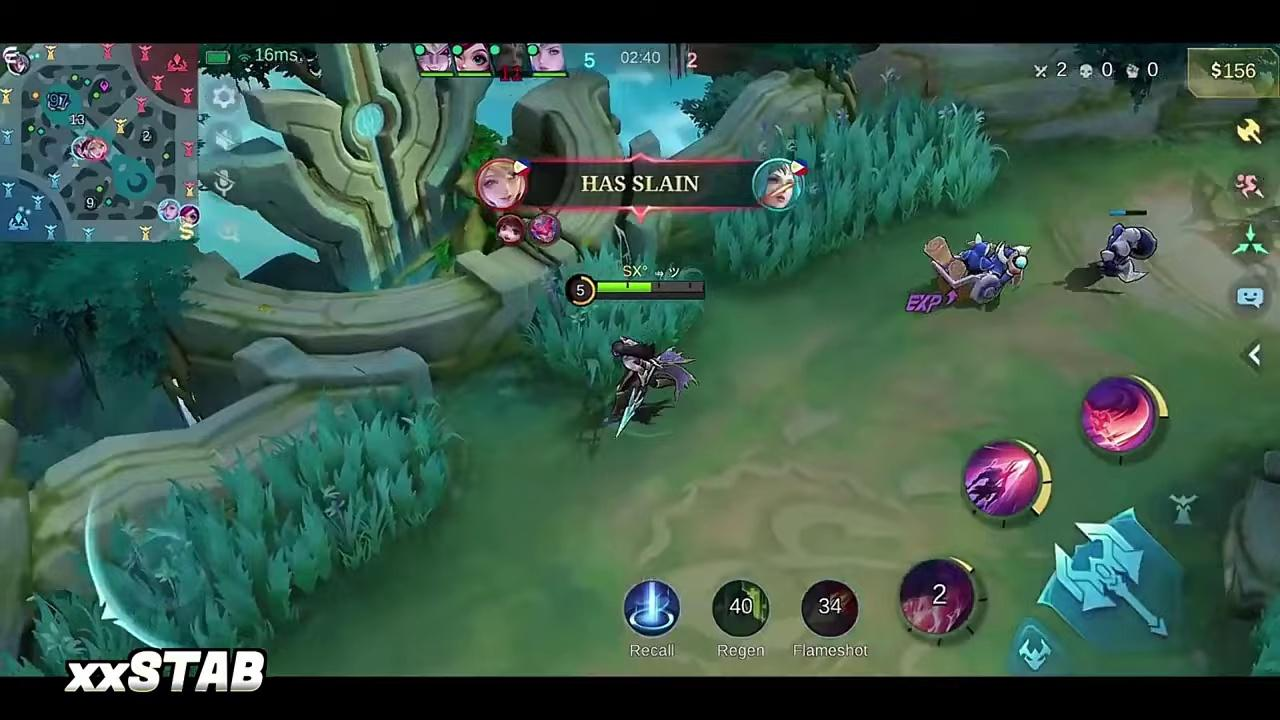bush: (62, 412, 433, 663), (717, 90, 1006, 278), (521, 285, 703, 388)
hp_self: (598, 281, 702, 292)
minion_ally: (907, 234, 1027, 309), (1098, 204, 1149, 277), (1096, 223, 1160, 277)
